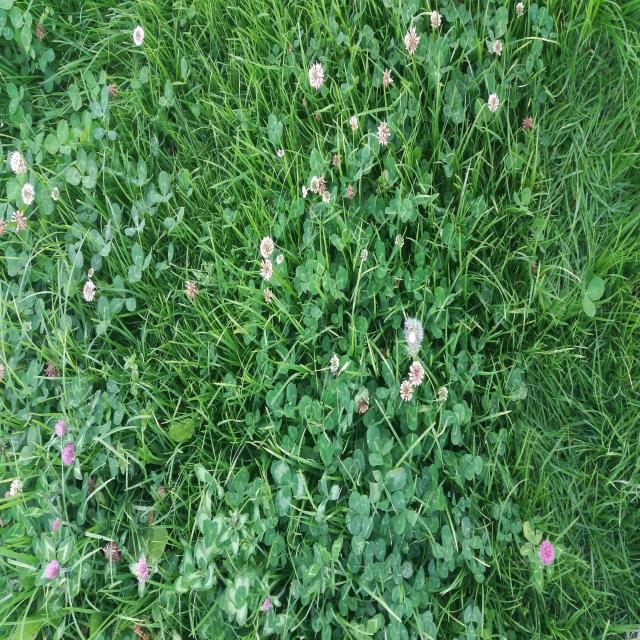Four Leaf Clover: (348, 491, 370, 538)
